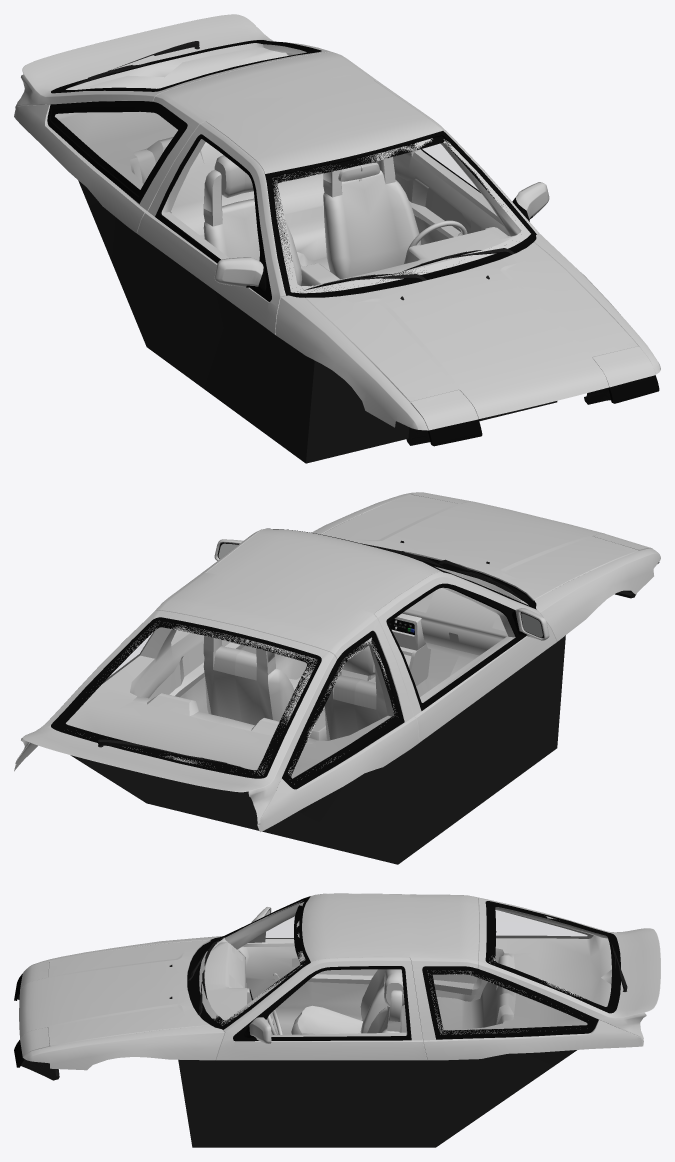
The model's file is RMCarDemoInterior.fbx.
3 renders of one model, top to bottom at view 1: azimuth 30°, elevation 25°; view 2: azimuth 150°, elevation 25°; view 3: azimuth 270°, elevation 25°, orthographic. The views are drawn at different scales.
Parts seen in each view (by area): view 1: RMCDemo_Paint_LOD0, RMCDemo_Interior_LOD0, RMCDemo_Body_LOD0, RMCDemo_WindowsI_LOD0, RMCDemo_PaintHeadlightRight_LOD0, RMCDemo_PaintHeadlightLeft_LOD0, RMCDemo_HeadlightOpenRight_LOD0, RMCDemo_HeadlightOpenLeft_LOD0; view 2: RMCDemo_Paint_LOD0, RMCDemo_Body_LOD0, RMCDemo_Interior_LOD0, RMCDemo_WindowsI_LOD0; view 3: RMCDemo_Paint_LOD0, RMCDemo_Body_LOD0, RMCDemo_Interior_LOD0, RMCDemo_WindowsI_LOD0, RMCDemo_HeadlightOpenLeft_LOD0, RMCDemo_PaintHeadlightLeft_LOD0, RMCDemo_PaintHeadlightRight_LOD0.
Part boxes in pixels (left/top/right/bottom): RMCDemo_Paint_LOD0: left=14, top=14, right=660, bottom=430; RMCDemo_Interior_LOD0: left=55, top=43, right=530, bottom=293; RMCDemo_Body_LOD0: left=47, top=40, right=557, bottom=463; RMCDemo_WindowsI_LOD0: left=55, top=112, right=477, bottom=189; RMCDemo_PaintHeadlightRight_LOD0: left=411, top=390, right=478, bottom=430; RMCDemo_PaintHeadlightLeft_LOD0: left=593, top=346, right=655, bottom=387; RMCDemo_HeadlightOpenRight_LOD0: left=406, top=419, right=482, bottom=446; RMCDemo_HeadlightOpenLeft_LOD0: left=584, top=375, right=659, bottom=404; RMCDemo_Paint_LOD0: left=14, top=492, right=660, bottom=832; RMCDemo_Body_LOD0: left=51, top=528, right=565, bottom=864; RMCDemo_Interior_LOD0: left=66, top=566, right=528, bottom=784; RMCDemo_WindowsI_LOD0: left=115, top=563, right=445, bottom=777; RMCDemo_Paint_LOD0: left=19, top=893, right=660, bottom=1070; RMCDemo_Body_LOD0: left=169, top=896, right=627, bottom=1147; RMCDemo_Interior_LOD0: left=199, top=901, right=611, bottom=1036; RMCDemo_WindowsI_LOD0: left=266, top=911, right=586, bottom=1029; RMCDemo_HeadlightOpenLeft_LOD0: left=14, top=1040, right=59, bottom=1080; RMCDemo_PaintHeadlightLeft_LOD0: left=20, top=1027, right=49, bottom=1057; RMCDemo_PaintHeadlightRight_LOD0: left=20, top=961, right=49, bottom=989.
Size of the model in its own units: 186 by 125 by 409.
